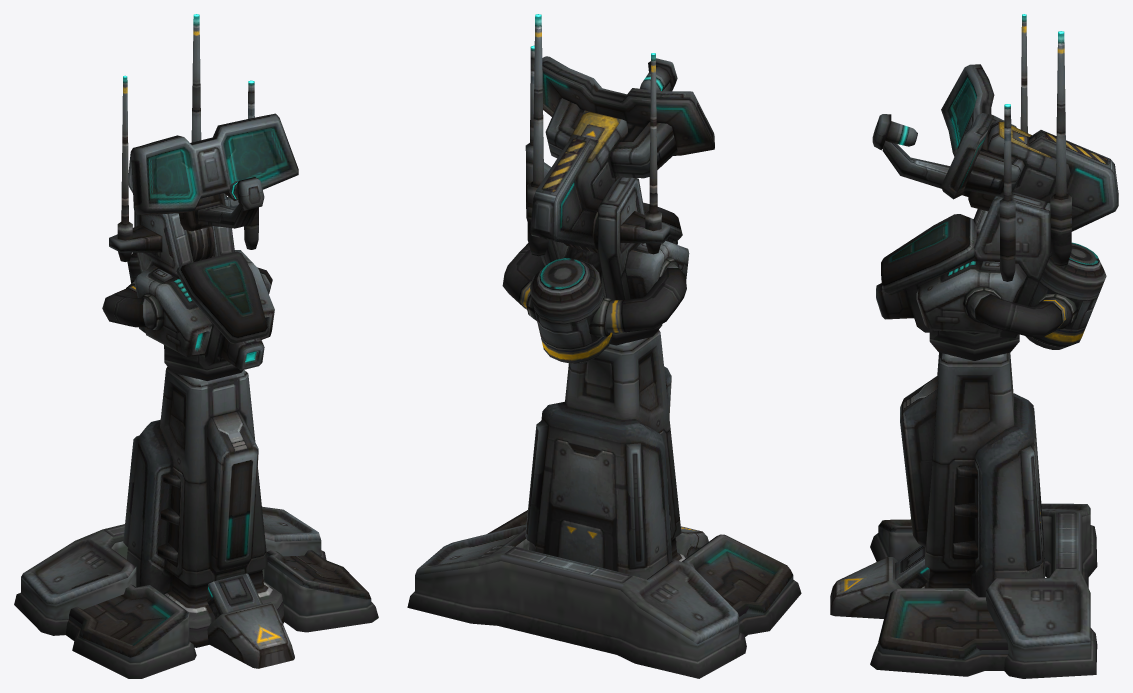
The model's file is HiveMindEmulator_Umojan.glb.
The picture shows the model from 3 angles, left to right: view 1: azimuth 30°, elevation 25°; view 2: azimuth 150°, elevation 25°; view 3: azimuth 270°, elevation 25°; orthographic projection. The views are drawn at different scales.
Visible parts, largest first — view 1: Mesh; view 2: Mesh; view 3: Mesh.
Boxes of the visible parts, <box> form: Mesh: <box>14,14,378,678</box>; Mesh: <box>407,14,801,678</box>; Mesh: <box>830,14,1118,678</box>.
Size of the model in its own units: 2.25 by 4.22 by 1.87.
Materials: 1 (1 with a texture image).
